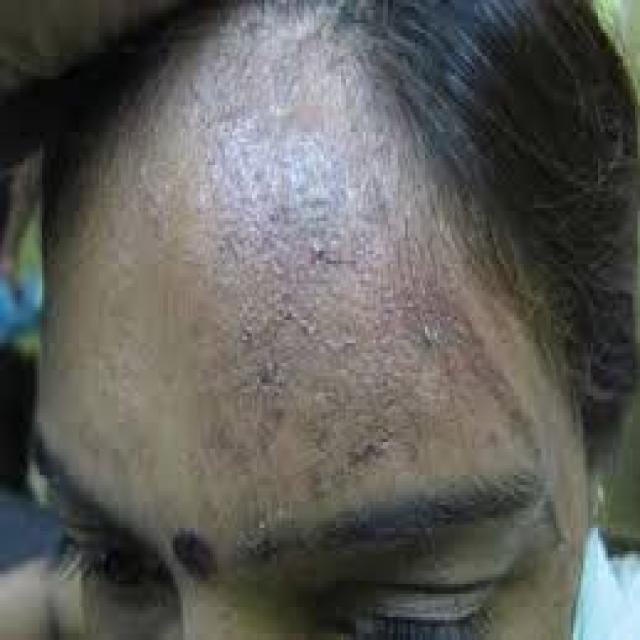pigmentation: (215, 223, 488, 449)
